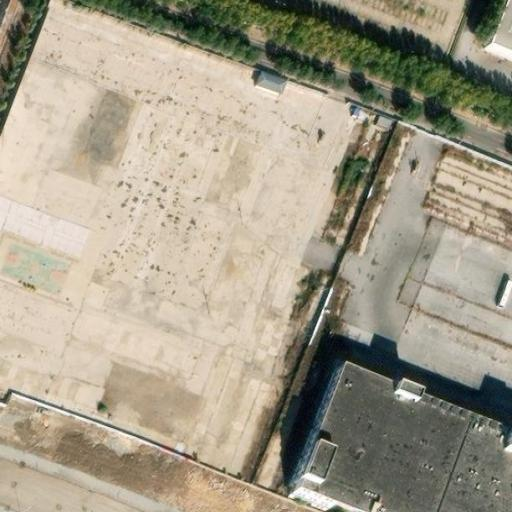building: (279, 372, 512, 512), (251, 64, 287, 93), (370, 108, 394, 128)
